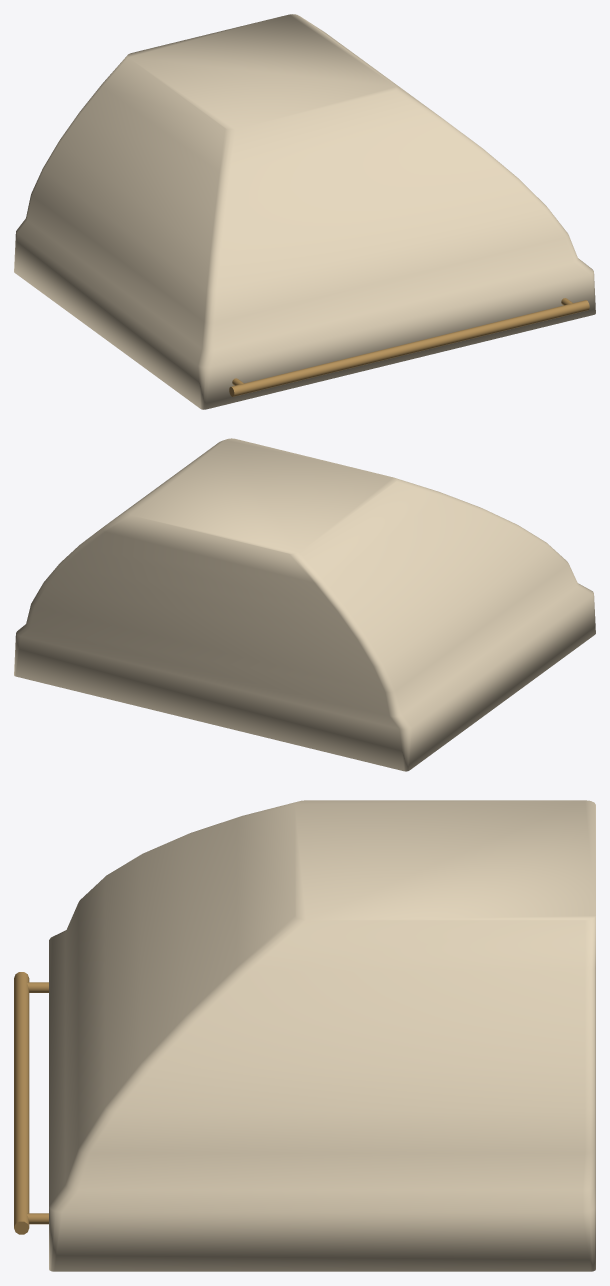
The model's file is a_hood_retro_3.glb.
3 renders of one model, top to bottom at view 1: azimuth 30°, elevation 25°; view 2: azimuth 150°, elevation 25°; view 3: azimuth 270°, elevation 25°, orthographic. The views are drawn at different scales.
Parts seen in each view (by area): view 1: o, o.027; view 2: o; view 3: o, o.027.
Part boxes in pixels (left/top/right/bottom): o: left=14, top=14, right=595, bottom=409; o.027: left=229, top=300, right=589, bottom=396; o: left=14, top=438, right=595, bottom=771; o: left=49, top=800, right=595, bottom=1271; o.027: left=14, top=972, right=29, bottom=1234.
Size of the model in its own units: 0.6 by 0.2772 by 0.532.
